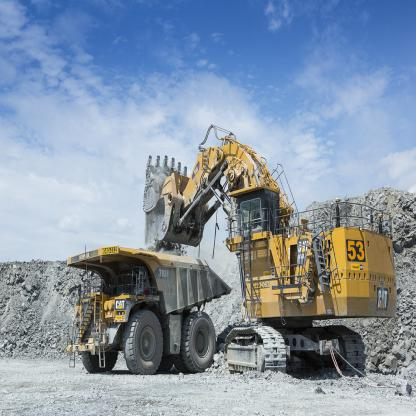dump_truck: (66, 245, 230, 371)
excavator: (143, 130, 399, 382)
